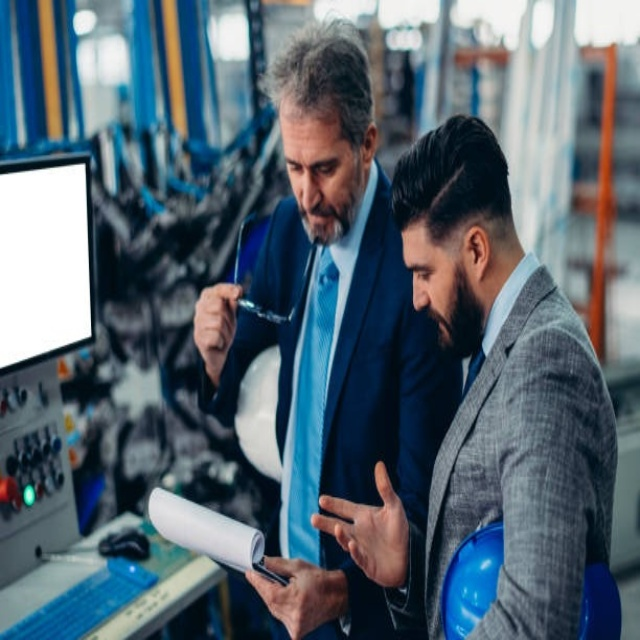Sin_gafas: (283, 147, 341, 180), (405, 248, 444, 282)
Sin_guantes: (314, 454, 410, 590), (243, 554, 345, 639), (193, 281, 243, 363)
Sin_mascara: (414, 295, 459, 355), (299, 198, 338, 243)
